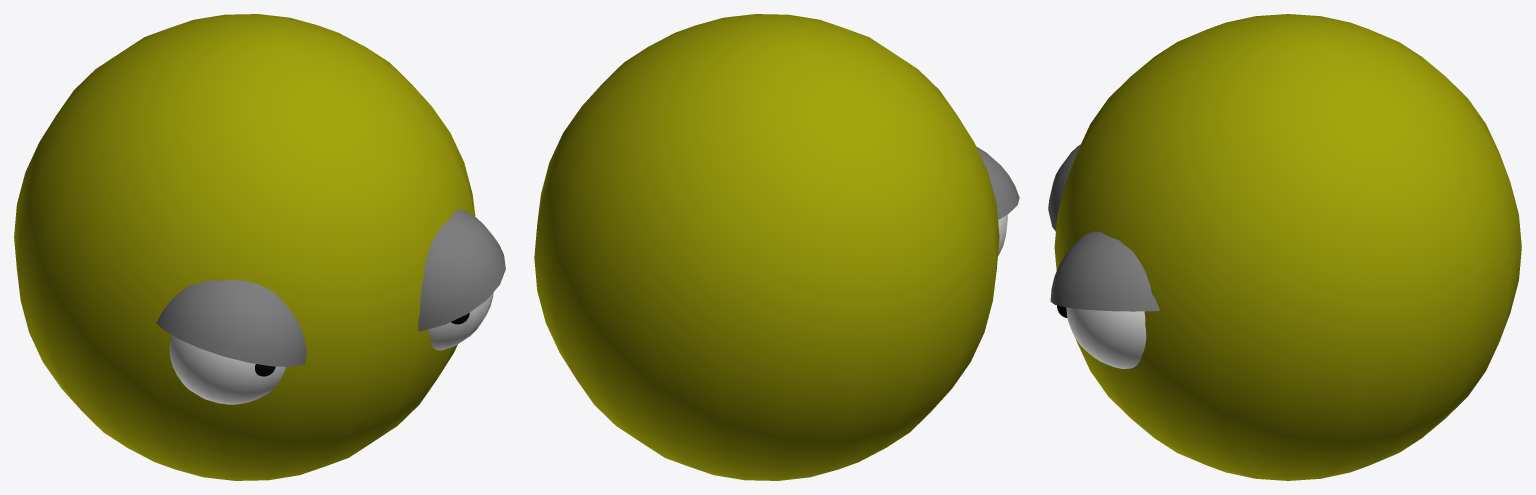
File: Enemy_Type_03.fbx
3 renders of one model, left to right at view 1: azimuth 30°, elevation 25°; view 2: azimuth 150°, elevation 25°; view 3: azimuth 270°, elevation 25°, orthographic.
Parts seen in each view (by area): view 1: pSphere1, polySurface1, polySurface6; view 2: pSphere1, polySurface1; view 3: pSphere1, polySurface6, polySurface1.
Boxes of the visible parts, bbox=[...] form: pSphere1: bbox=[14, 14, 475, 480]; polySurface1: bbox=[156, 279, 306, 404]; polySurface6: bbox=[418, 209, 505, 350]; pSphere1: bbox=[534, 14, 999, 480]; polySurface1: bbox=[976, 146, 1019, 255]; pSphere1: bbox=[1054, 14, 1521, 480]; polySurface6: bbox=[1050, 231, 1159, 368]; polySurface1: bbox=[1048, 144, 1080, 231].
Size of the model in its own units: 13.23 by 13.23 by 13.41.
